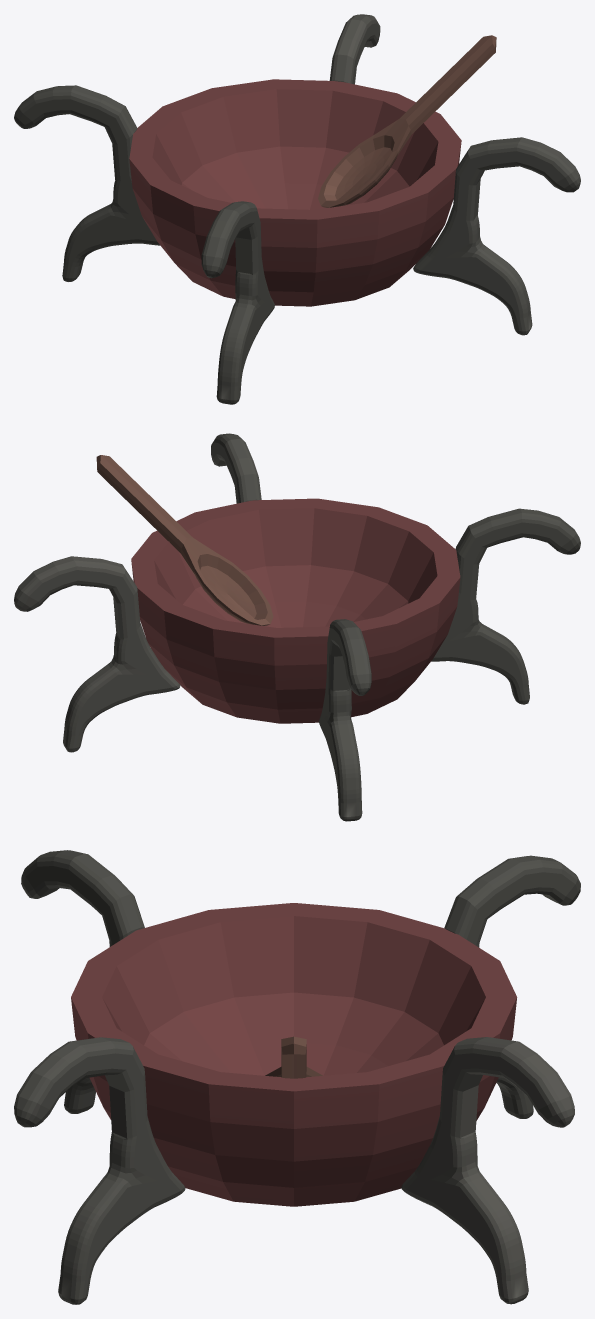
The model's file is VasilhaDeMistura_Lab_LoPo.fbx.
The picture shows the model from 3 angles, top to bottom: view 1: azimuth 30°, elevation 25°; view 2: azimuth 150°, elevation 25°; view 3: azimuth 270°, elevation 25°; orthographic projection. The views are drawn at different scales.
Visible parts, largest first — view 1: vasilhaDeMistura__Lab_LoPo; view 2: vasilhaDeMistura__Lab_LoPo; view 3: vasilhaDeMistura__Lab_LoPo.
Boxes of the visible parts, <box> form: vasilhaDeMistura__Lab_LoPo: <box>14,14,580,404</box>; vasilhaDeMistura__Lab_LoPo: <box>14,433,580,821</box>; vasilhaDeMistura__Lab_LoPo: <box>14,850,580,1304</box>.
Size of the model in its own units: 155 by 85.33 by 147.
